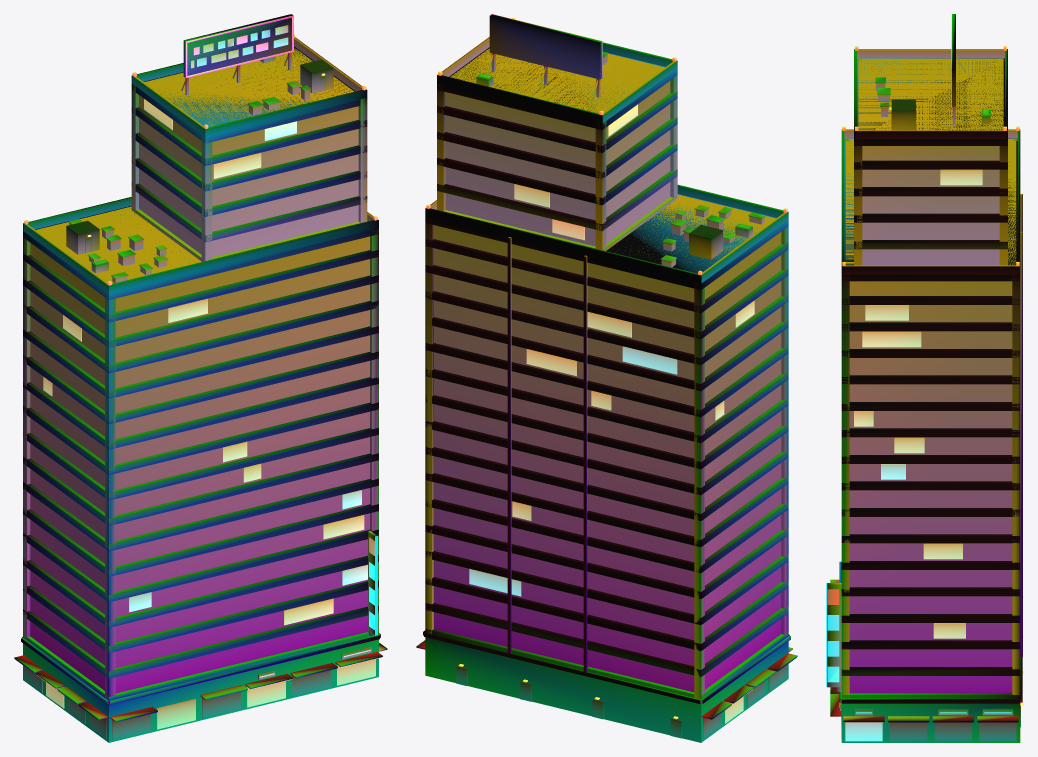
The model's file is Tower_Slab.fbx.
3 views of the same model, side by side, from view 1: azimuth 30°, elevation 25°; view 2: azimuth 150°, elevation 25°; view 3: azimuth 270°, elevation 25° (orthographic). The views are drawn at different scales.
Visible parts, largest first — view 1: Tower_Slab_LOD0; view 2: Tower_Slab_LOD0; view 3: Tower_Slab_LOD0.
Boxes of the visible parts, bbox=[...] form: Tower_Slab_LOD0: bbox=[14, 14, 387, 742]; Tower_Slab_LOD0: bbox=[416, 14, 797, 742]; Tower_Slab_LOD0: bbox=[826, 14, 1023, 742].
Size of what is drawn, in the model's own units: 42.8 by 89.32 by 24.28.
